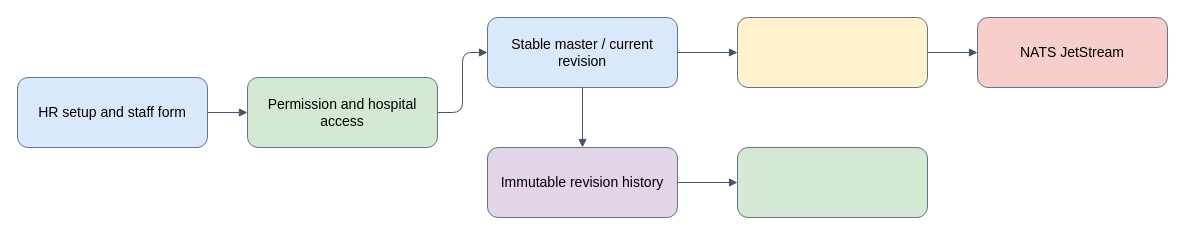
The diagram is 1185 pixels wide and 235 high, and some of its shapes have lost their labels. Here are the shapes that lost their labels. From the top down, the centre of each, then its label:
At (x=832, y=52): "Atomic audit and outbox".
At (x=832, y=182): "Staff assignment / recorded name".
